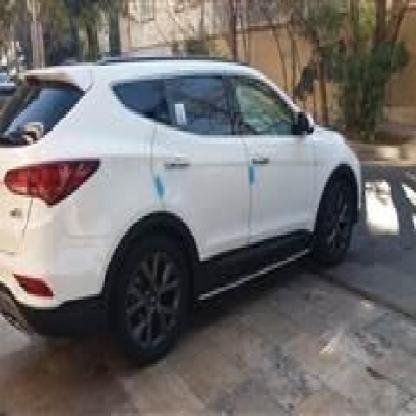Car: (0, 57, 366, 369)
